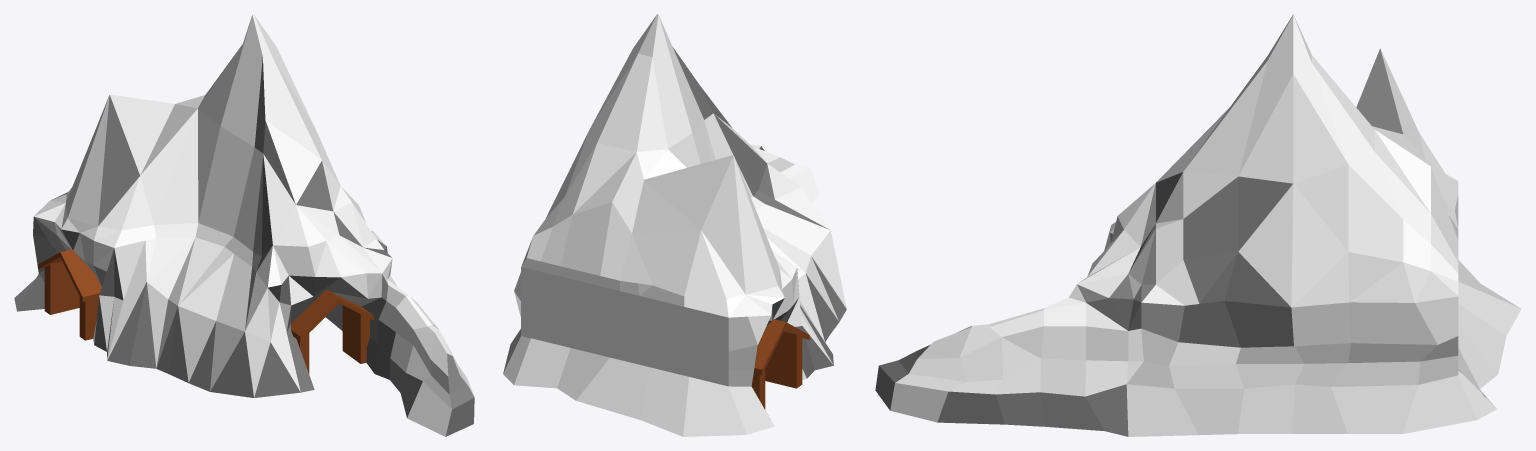
The model's file is Great Mountain.fbx.
3 renders of one model, left to right at view 1: azimuth 30°, elevation 25°; view 2: azimuth 150°, elevation 25°; view 3: azimuth 270°, elevation 25°, orthographic. The views are drawn at different scales.
Visible parts, largest first — view 1: Roof, Left_wall, Entrance_left, Entrance_bottom, Back_wall; view 2: Roof, Back_wall, Left_wall, Entrance_left; view 3: Roof, Back_wall, Left_wall.
Boxes of the visible parts, x1,y1,x2,y2 form: Roof: (34,14,392,287); Left_wall: (17,210,474,436); Entrance_left: (38,249,101,340); Entrance_bottom: (291,290,374,373); Back_wall: (14,278,342,330); Roof: (521,14,801,317); Back_wall: (503,267,774,436); Left_wall: (747,144,846,400); Entrance_left: (751,319,809,409); Roof: (1077,14,1458,307); Back_wall: (1126,260,1521,436); Left_wall: (875,227,1143,436).
Size of the model in its own units: 1749 by 1852 by 2976.
